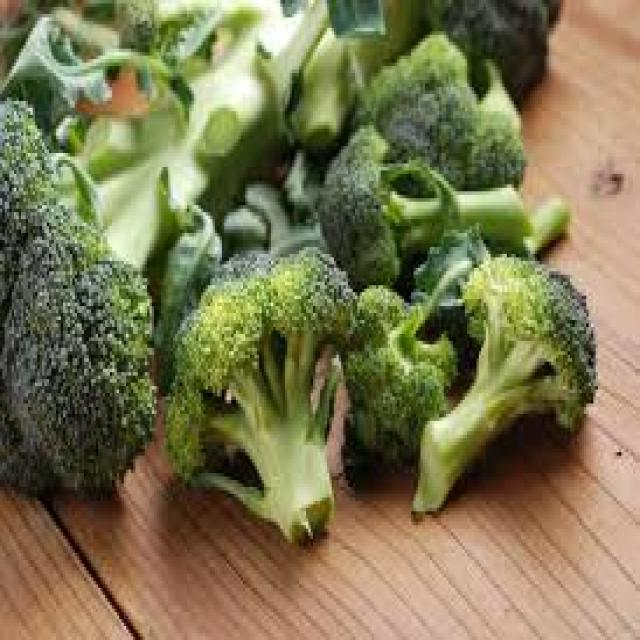organic waste: (0, 0, 324, 504), (161, 243, 353, 542), (409, 250, 593, 515), (313, 119, 530, 278), (348, 32, 523, 192), (339, 282, 460, 466), (290, 0, 432, 146), (0, 0, 126, 132), (423, 0, 563, 104), (152, 198, 217, 393), (404, 226, 495, 331), (124, 0, 285, 52), (243, 170, 299, 250), (519, 195, 565, 264), (220, 192, 266, 244)
